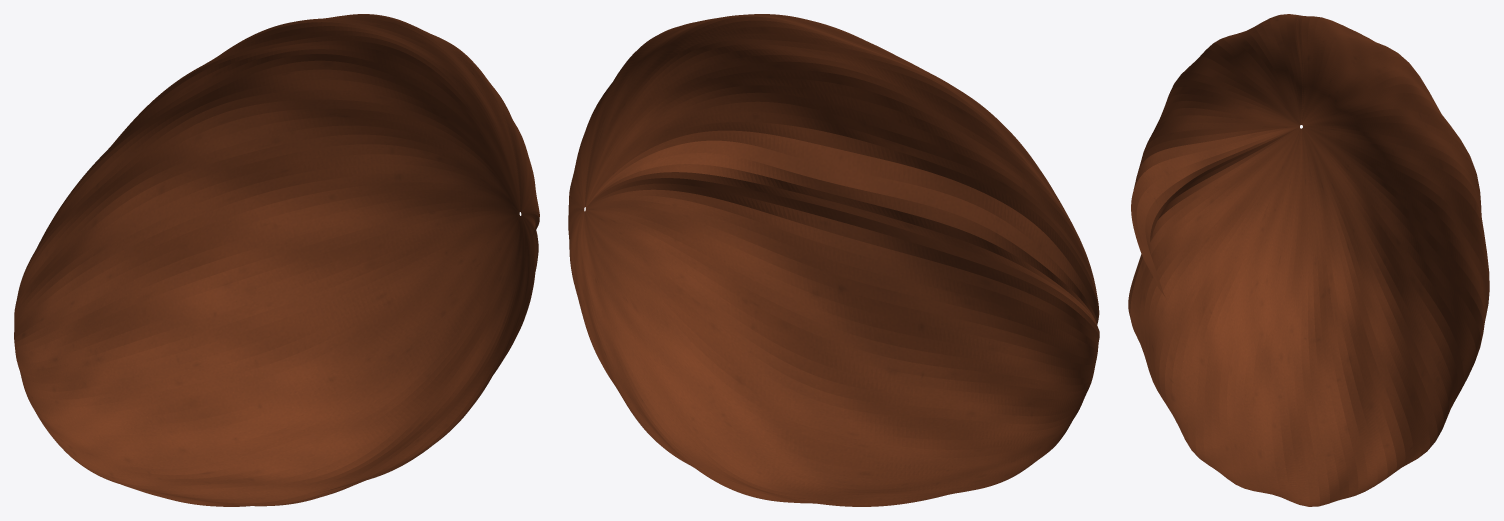
File: arabica.glb
The picture shows the model from 3 angles, left to right: view 1: azimuth 30°, elevation 25°; view 2: azimuth 150°, elevation 25°; view 3: azimuth 270°, elevation 25°; orthographic projection.
Visible parts, largest first — view 1: world; view 2: world; view 3: world.
Boxes of the visible parts, x1=… form: world: x1=14, y1=14, x2=539, y2=506; world: x1=568, y1=14, x2=1099, y2=506; world: x1=1128, y1=14, x2=1489, y2=506.
Size of the model in its own units: 1.12 by 0.9628 by 0.7117.
1 material, 1 textured.
